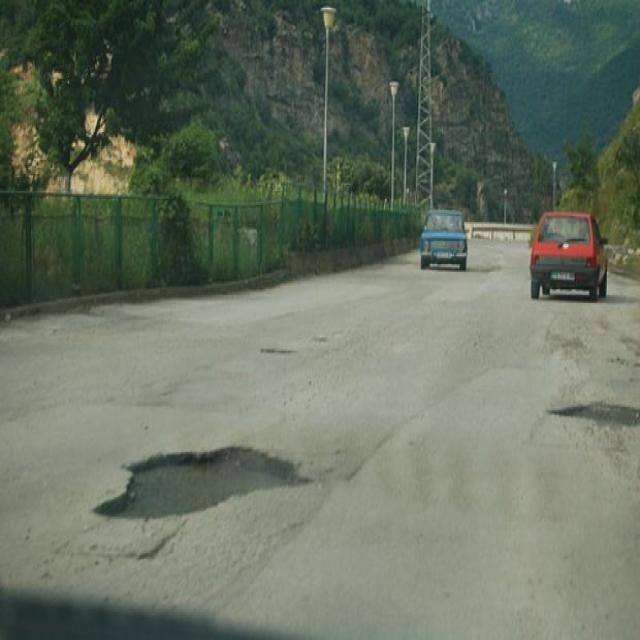pothole: (87, 435, 310, 522)
